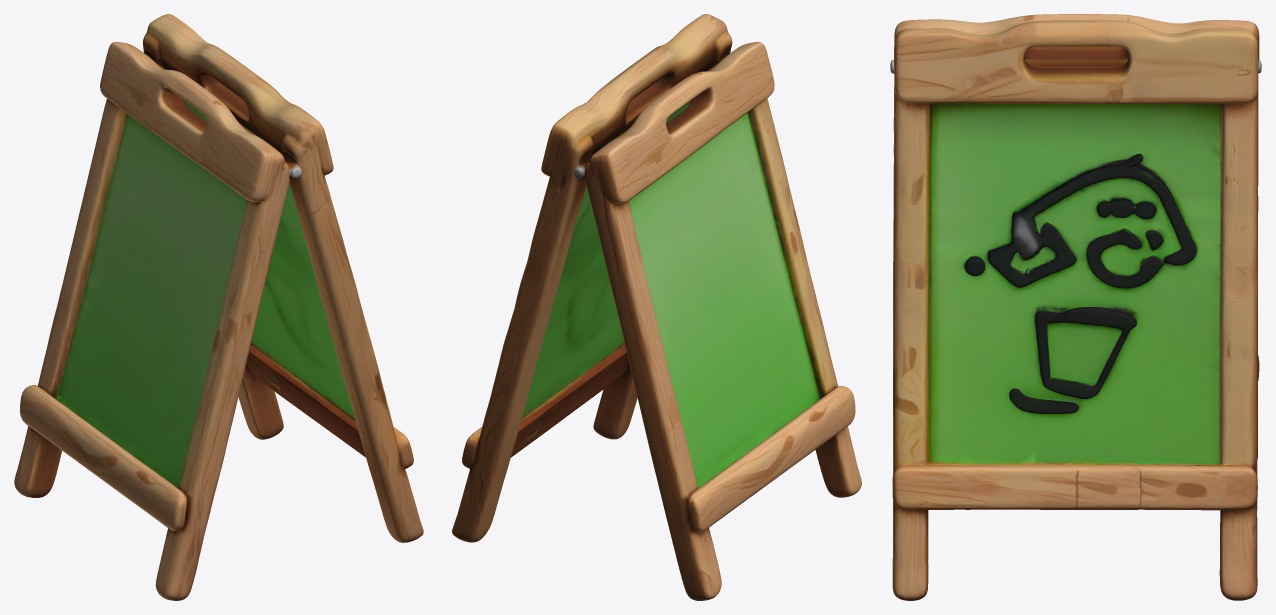
Rendered from prop-sandwich-board.glb.
The picture shows the model from 3 angles, left to right: view 1: azimuth 30°, elevation 25°; view 2: azimuth 150°, elevation 25°; view 3: azimuth 270°, elevation 25°; orthographic projection. The views are drawn at different scales.
Parts seen in each view (by area): view 1: tripo_node_6413eebf-48b5-4e22-8d8f-236ebe022773; view 2: tripo_node_6413eebf-48b5-4e22-8d8f-236ebe022773; view 3: tripo_node_6413eebf-48b5-4e22-8d8f-236ebe022773.
Boxes of the visible parts, x1=… form: tripo_node_6413eebf-48b5-4e22-8d8f-236ebe022773: x1=14, y1=14, x2=423, y2=600; tripo_node_6413eebf-48b5-4e22-8d8f-236ebe022773: x1=452, y1=14, x2=861, y2=600; tripo_node_6413eebf-48b5-4e22-8d8f-236ebe022773: x1=890, y1=14, x2=1261, y2=600.
Bounding box in the file's own units: 0.723 × 1.2 × 0.7709.
Materials: 1 (1 with a texture image).
